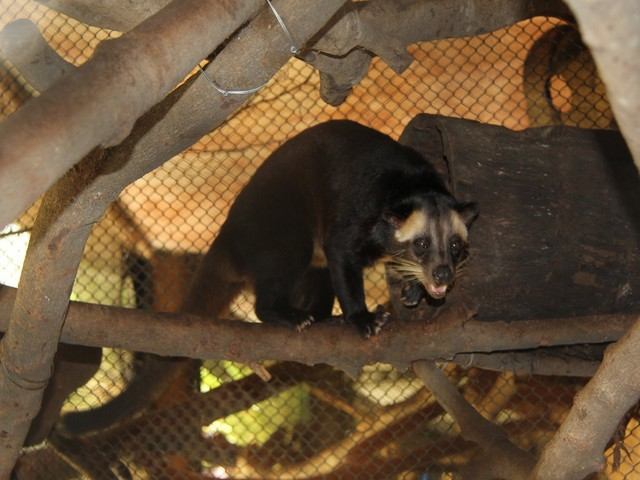civet: (65, 117, 480, 430)
